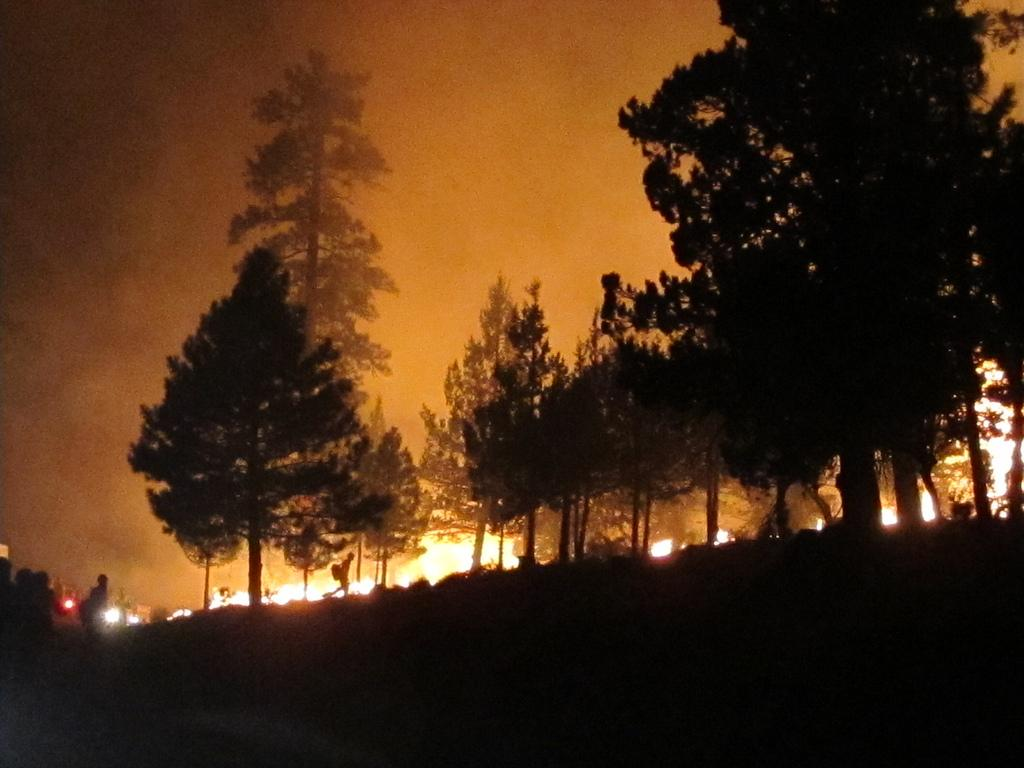fire: (982, 380, 1024, 516), (404, 536, 518, 574), (650, 540, 688, 562)
